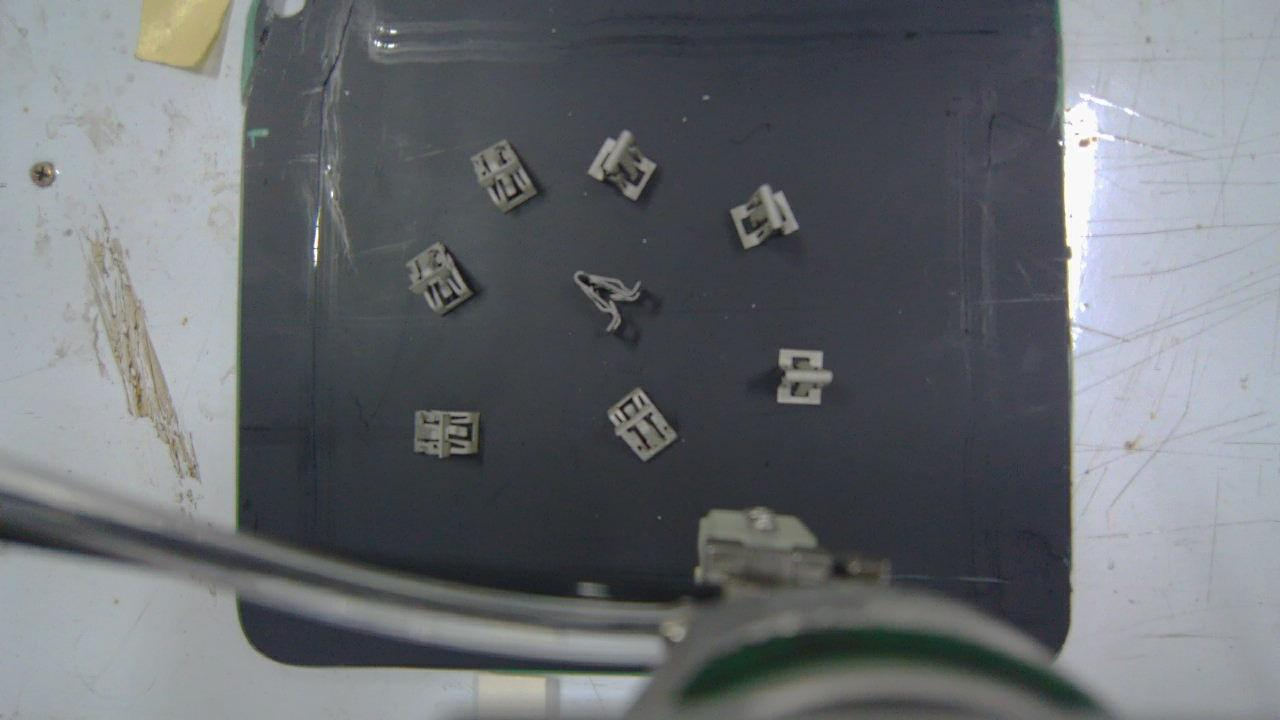ng: (607, 387, 678, 462), (470, 138, 539, 215), (405, 242, 474, 317), (589, 129, 657, 202), (729, 184, 800, 251), (573, 270, 643, 332), (413, 410, 479, 458)
pass: (776, 350, 834, 404)
